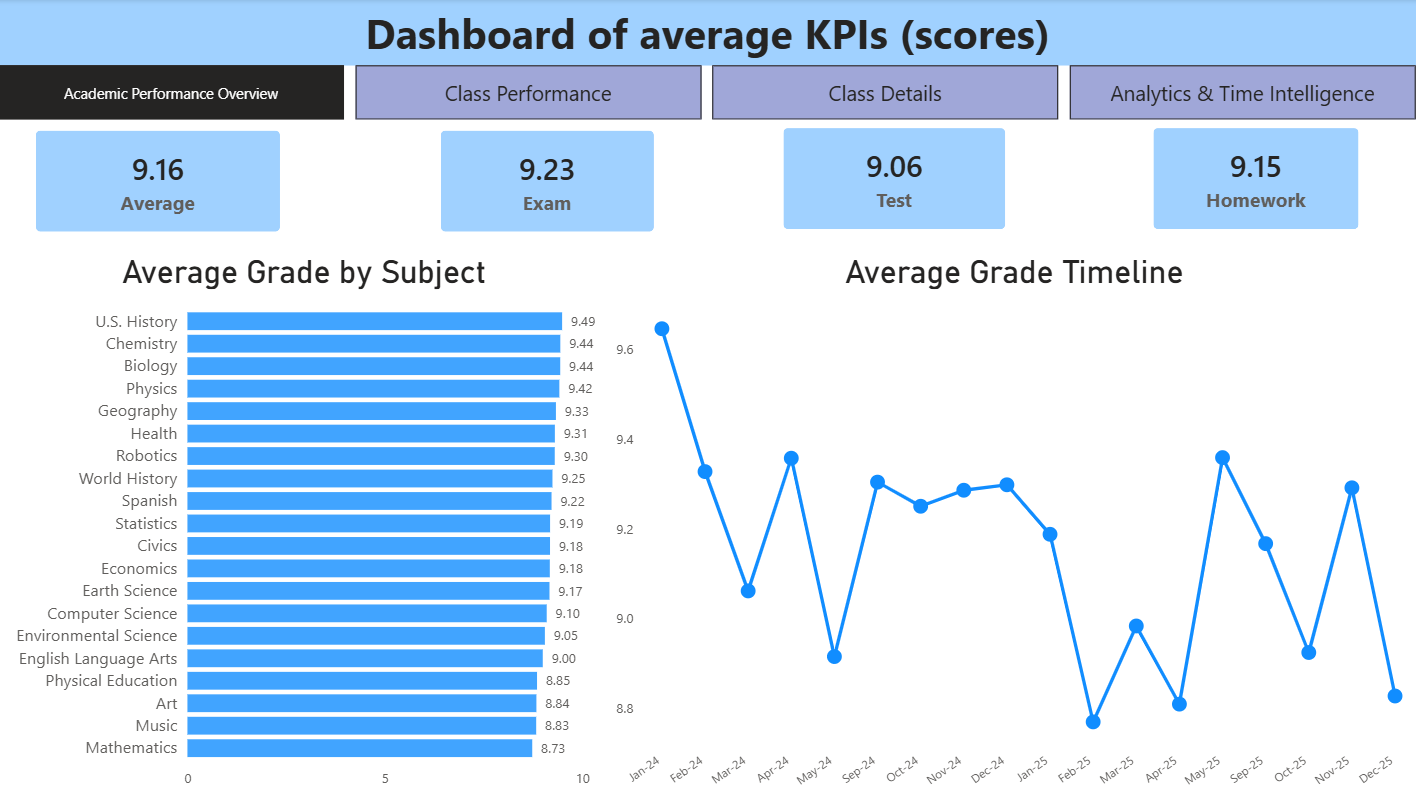

The dashboard page shown, as its layout file describes it:
{"tool":"powerbi","page":{"name":"Academic Performance Overview","canvas":[1280,720],"ordinal":0},"visuals":[{"type":"cardVisual","fields":{"Data":["grades.Average Grade"]},"box":[26.6,111.6,234.7,105.3],"z":0},{"type":"cardVisual","fields":{"Data":["grades.test average grade"]},"box":[701.5,109.1,214.4,105.3],"z":1000},{"type":"cardVisual","fields":{"Data":["grades.homework average grade"]},"box":[1035.2,109.1,199.2,105.3],"z":2000},{"type":"textbox","box":[0,0,1280,59.6],"z":3000},{"type":"barChart","title":"Average Grade by Subject","fields":{"Category":["subjects.subject_name"],"Y":["grades.average grade"]},"box":[0,228.3,551.8,492.2],"z":4000},{"type":"lineChart","title":"Average Grade Timeline","fields":{"Category":["calendar.Year_Month"],"Y":["grades.average grade"]},"box":[551.8,228.3,728.2,492.2],"z":5000},{"type":"cardVisual","fields":{"Data":["grades.exam average grade"]},"box":[392,111.6,206.8,105.3],"z":6000},{"type":"pageNavigator","box":[0,59.6,1280,49.5],"z":7000}]}

Visuals, with their boxes in screenshot pixels (x1, y1, x2, y2), scaled from the page's 1280x720 canvas onto the 1416x795 screenshot:
cardVisual - grades.Average Grade: 29:123:289:239
cardVisual - grades.test average grade: 776:120:1013:237
cardVisual - grades.homework average grade: 1145:120:1366:237
textbox: 0:0:1415:66
"Average Grade by Subject" barChart: 0:252:610:794
"Average Grade Timeline" lineChart: 610:252:1415:794
cardVisual - grades.exam average grade: 434:123:662:239
pageNavigator: 0:66:1415:120
